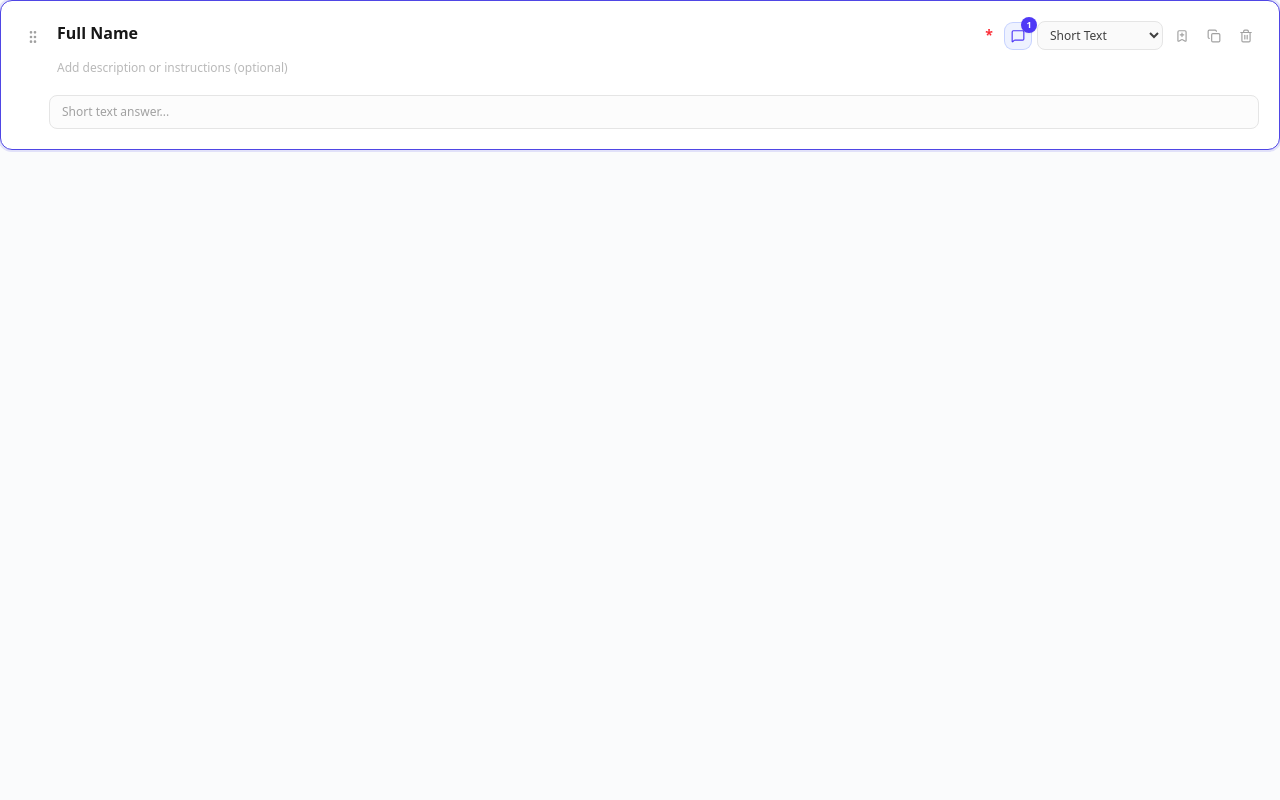
Scenario: Field Comments & Version History Feature › BuilderFieldCard comment integration › renders comment button with unresolved comment count badge
The width and height of the screenshot is (1280, 800).
Check: the text "1" is shown, box [1021,16,1037,32]
Clicking opens FieldCommentsModal
Click the button titled "1 unresolved comment(s)": (1018, 36) [1005,22,1031,48]
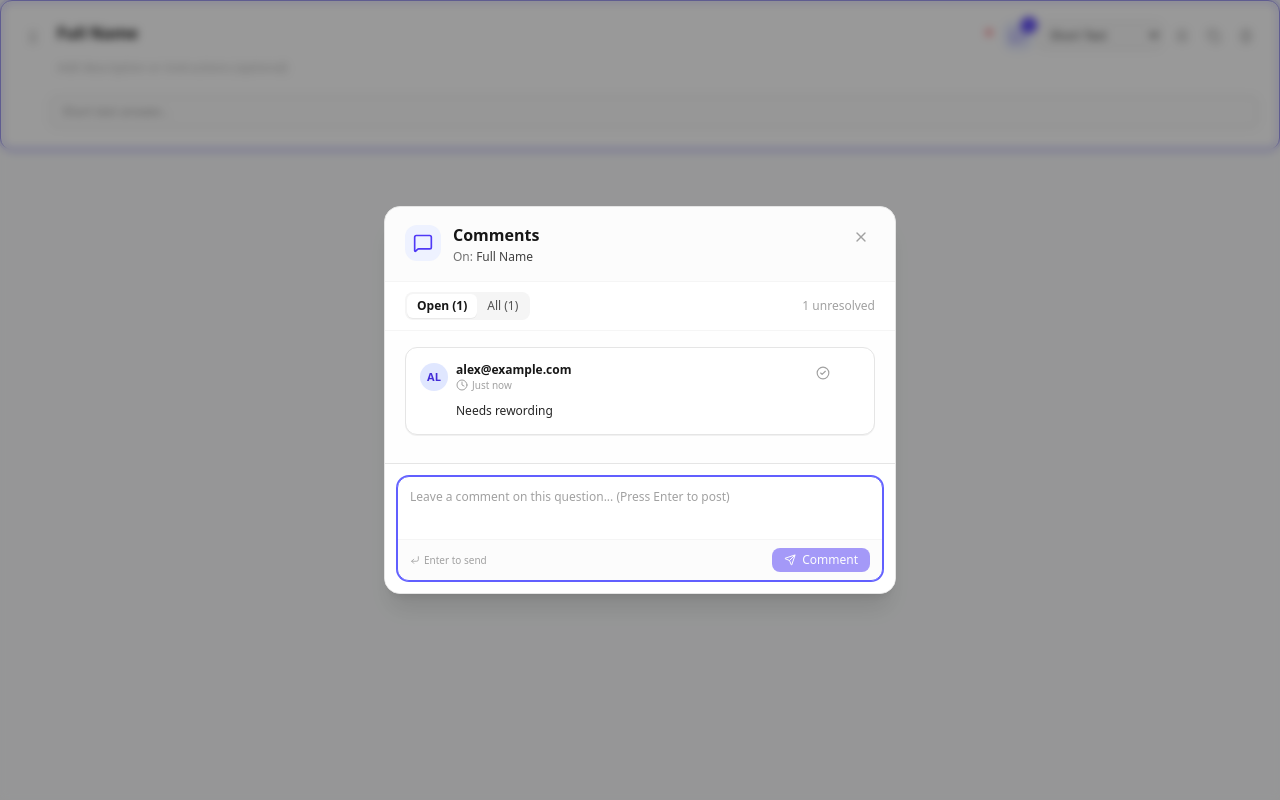
Check: the text "Needs rewording" is shown, box [456,402,553,419]
